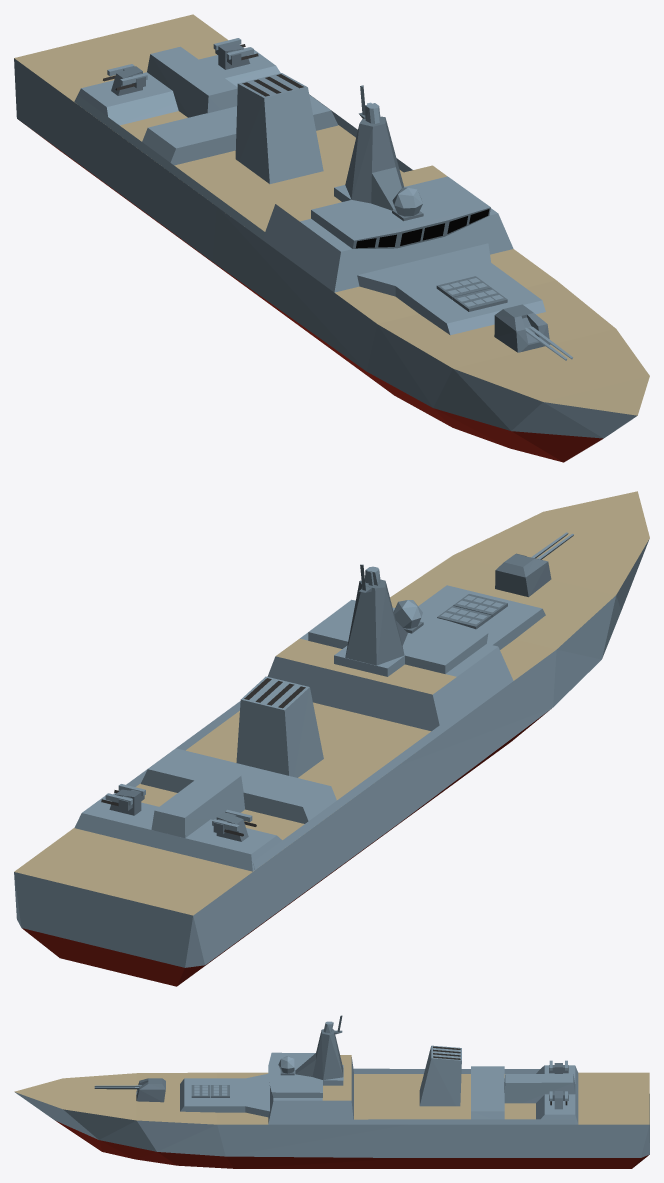
The model's file is Ship3.fbx.
3 views of the same model, one above another, from view 1: azimuth 30°, elevation 25°; view 2: azimuth 150°, elevation 25°; view 3: azimuth 270°, elevation 25° (orthographic). The views are drawn at different scales.
Visible parts, largest first — view 1: Ship_platform, Modules, Pilothouse_1, Pilothouse_2, Funnel, Pilothouse_3, AntenaRLS, Ship_sideboard, 120mm cannons_x2, GLASS, AntenaRLS.001, Cube.001 (+2 smaller); view 2: Ship_platform, Modules, Pilothouse_1, Funnel, Pilothouse_3, AntenaRLS, Pilothouse_2, Ship_sideboard, 120mm cannons_x2, Cube.001, Cube.002, RLS360; view 3: Ship_platform, Modules, Pilothouse_1, Pilothouse_2, Funnel, Ship_sideboard, Pilothouse_3, AntenaRLS, 120mm cannons_x2, Cube.002, RLS360, AntenaRLS.001.
Part boxes in pixels (bbox=[...]): Ship_platform: bbox=[14, 14, 649, 462]; Modules: bbox=[74, 46, 338, 165]; Pilothouse_1: bbox=[262, 165, 513, 292]; Pilothouse_2: bbox=[357, 243, 545, 335]; Funnel: bbox=[235, 73, 323, 183]; Pilothouse_3: bbox=[311, 176, 490, 248]; AntenaRLS: bbox=[345, 113, 403, 203]; Ship_sideboard: bbox=[76, 94, 412, 239]; 120mm cannons_x2: bbox=[494, 304, 550, 352]; GLASS: bbox=[356, 209, 489, 248]; AntenaRLS.001: bbox=[371, 167, 401, 210]; Cube.001: bbox=[103, 64, 147, 95]; Ship_platform: bbox=[14, 491, 649, 986]; Modules: bbox=[74, 748, 336, 871]; Pilothouse_1: bbox=[267, 632, 513, 733]; Funnel: bbox=[236, 676, 323, 777]; Pilothouse_3: bbox=[308, 599, 488, 676]; AntenaRLS: bbox=[345, 579, 404, 665]; Pilothouse_2: bbox=[418, 585, 545, 649]; Ship_sideboard: bbox=[113, 701, 441, 869]; 120mm cannons_x2: bbox=[495, 553, 551, 597]; Cube.001: bbox=[212, 809, 256, 841]; Cube.002: bbox=[101, 784, 145, 815]; RLS360: bbox=[394, 600, 423, 633]; Ship_platform: bbox=[14, 1072, 649, 1168]; Modules: bbox=[471, 1065, 578, 1124]; Pilothouse_1: bbox=[268, 1055, 353, 1124]; Pilothouse_2: bbox=[180, 1073, 269, 1117]; Funnel: bbox=[419, 1045, 461, 1106]; Ship_sideboard: bbox=[353, 1068, 575, 1124]; Pilothouse_3: bbox=[268, 1052, 343, 1097]; AntenaRLS: bbox=[312, 1029, 343, 1080]; 120mm cannons_x2: bbox=[136, 1078, 165, 1102]; Cube.002: bbox=[549, 1091, 568, 1109]; RLS360: bbox=[278, 1056, 294, 1075]; AntenaRLS.001: bbox=[295, 1053, 315, 1076].
Bounding box in the file's own units: 95.59 × 111 × 470.
